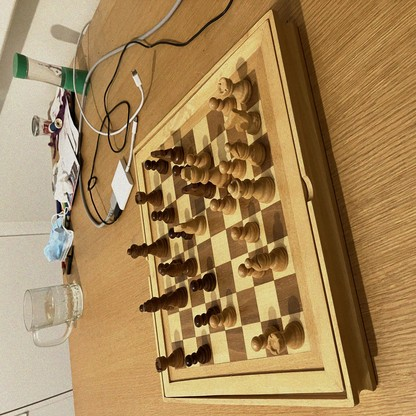bishop_black: (162, 257, 197, 278)
bishop_white: (246, 246, 288, 273), (224, 141, 266, 167)
king_black: (143, 288, 189, 312)
king_white: (181, 167, 234, 188)
knight_black: (181, 182, 217, 197), (151, 147, 183, 162)
knight_white: (224, 110, 262, 135), (174, 215, 206, 237)
pawn_black: (186, 343, 212, 366), (194, 305, 220, 326), (191, 272, 216, 292), (151, 205, 174, 223), (145, 159, 170, 174)
pawn_white: (252, 323, 279, 350), (230, 222, 261, 244), (209, 306, 236, 329), (210, 98, 237, 115), (219, 161, 247, 177), (210, 197, 236, 214), (239, 264, 264, 279), (187, 154, 213, 168)
queen_white: (228, 175, 275, 202)
rock_black: (127, 237, 169, 258), (157, 347, 184, 372), (136, 188, 163, 204)
rock_white: (267, 322, 304, 354), (219, 78, 252, 102)
